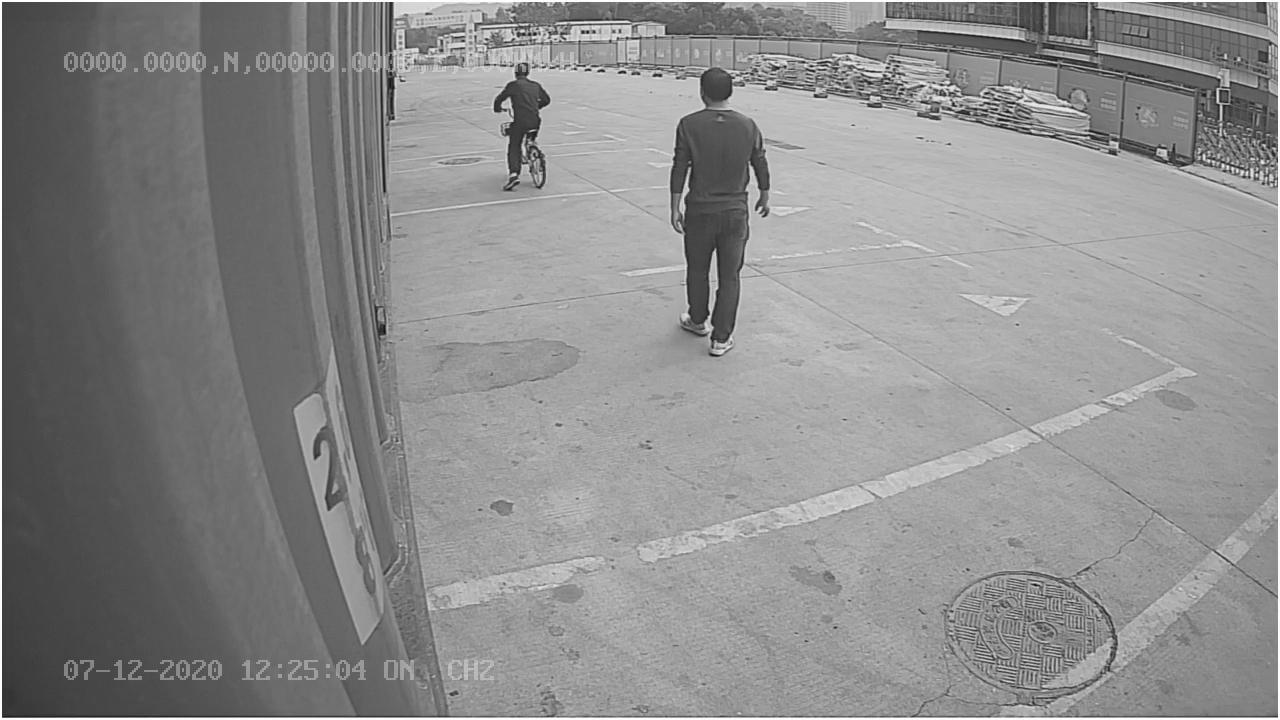person: (668, 64, 773, 364)
